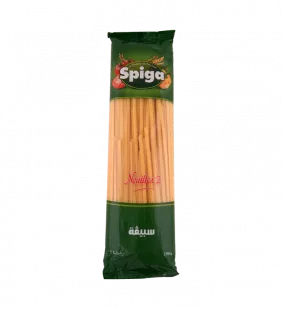SPIGA: (93, 21, 188, 284)
